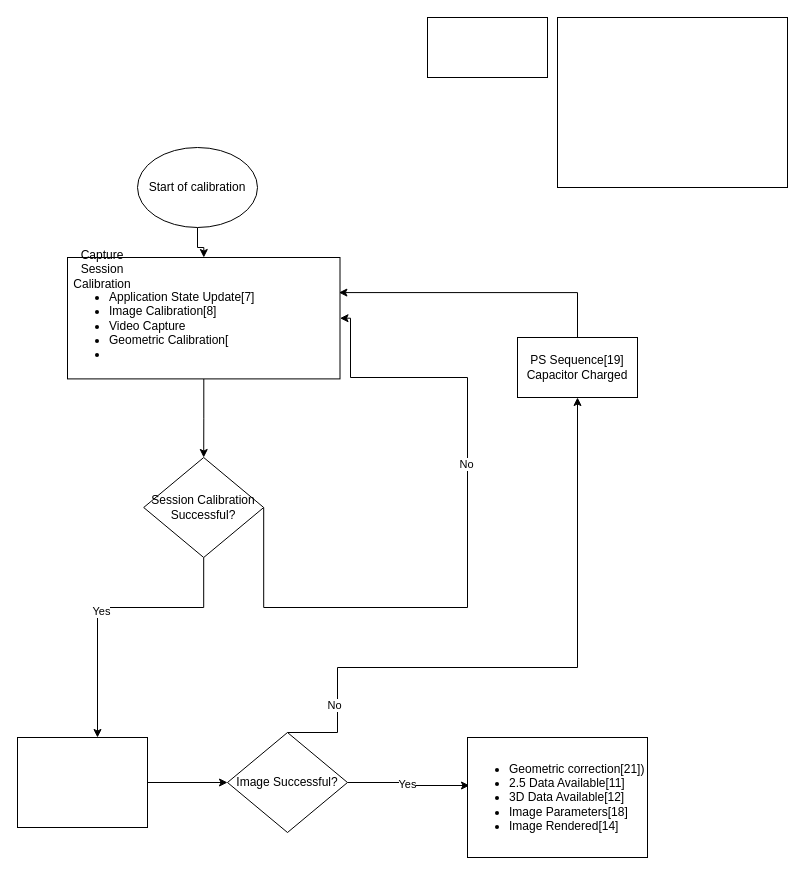
Image size: 805x875. Some labels were removed from this diagram. Each missing label, with the box of its shape:
Global: (556, 16, 788, 188)
Image Capture [10] Image Calibration[8]: (16, 736, 148, 828)
Query MPPS device[6]: (426, 16, 548, 78)
